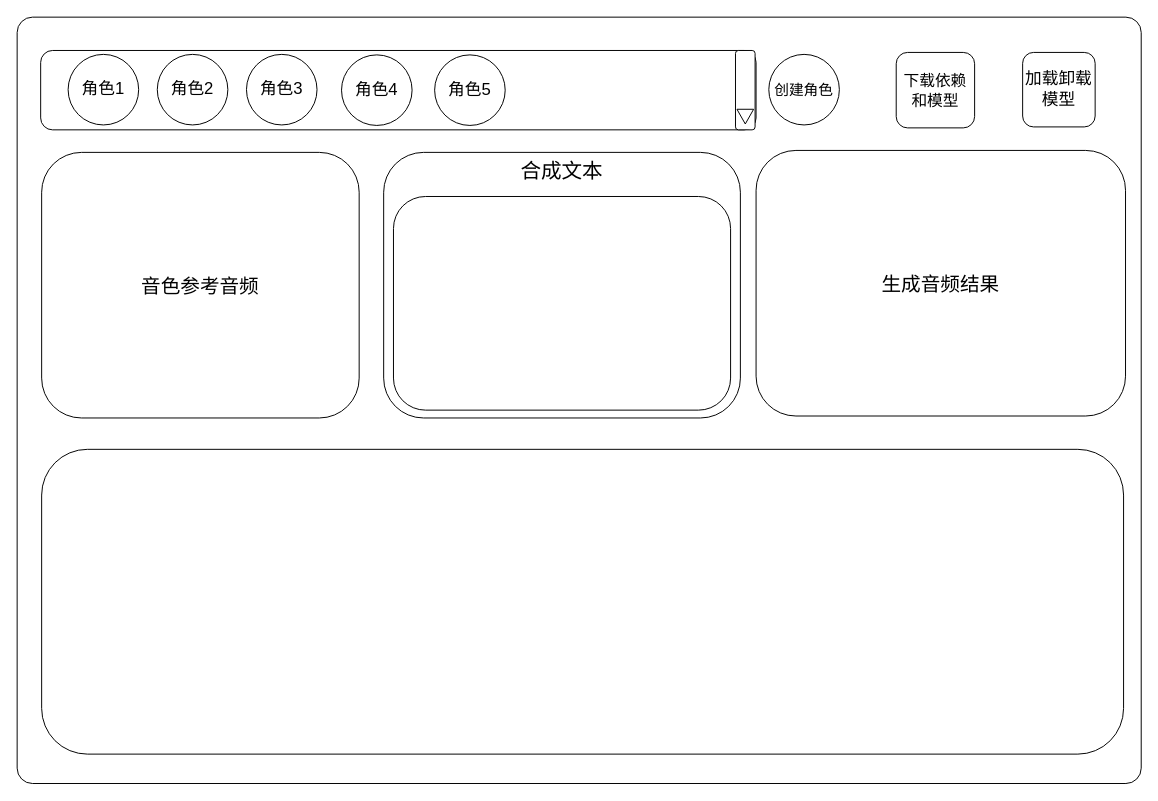
Some shapes in this 1158 by 801 pixel diagram are drawn without their labels. The shapes that lost their labels are listed below. From the top down, each one's centre as x and y in pixels, then its label:
At pixel 561 303: "文本输入框".
At pixel 582 601: "情感控制模块".
